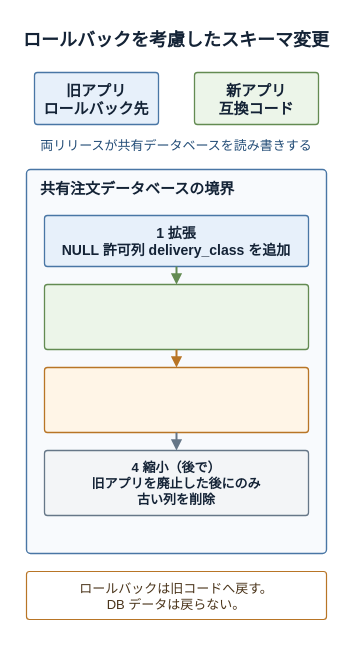
This 353x653 diagram has some shape labels left out. Each missing label, with the centre of its shape:
"2 互換性確保 旧アプリは新しい列を無視 新アプリは旧フィールドを利用可能に保つ" belongs at (x=176, y=316).
"3 移行と検証 注文データをバックフィル 移行後の値を検証" belongs at (x=176, y=399).
